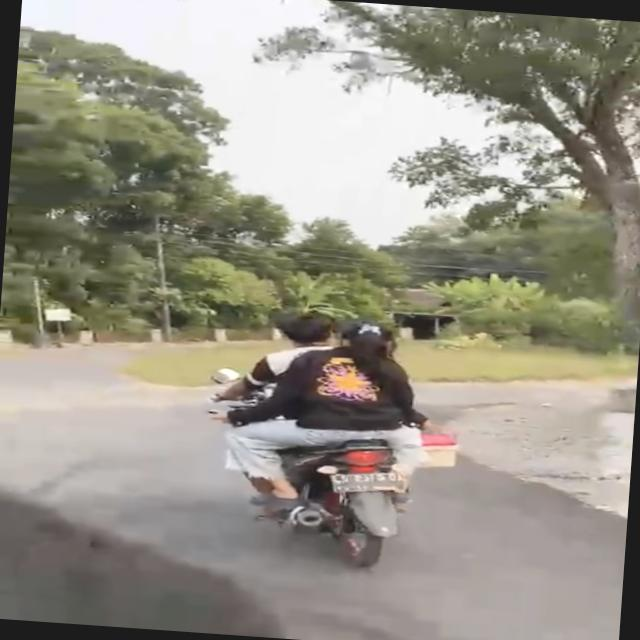WithoutHelmet: (199, 308, 448, 523), (211, 304, 342, 412)
